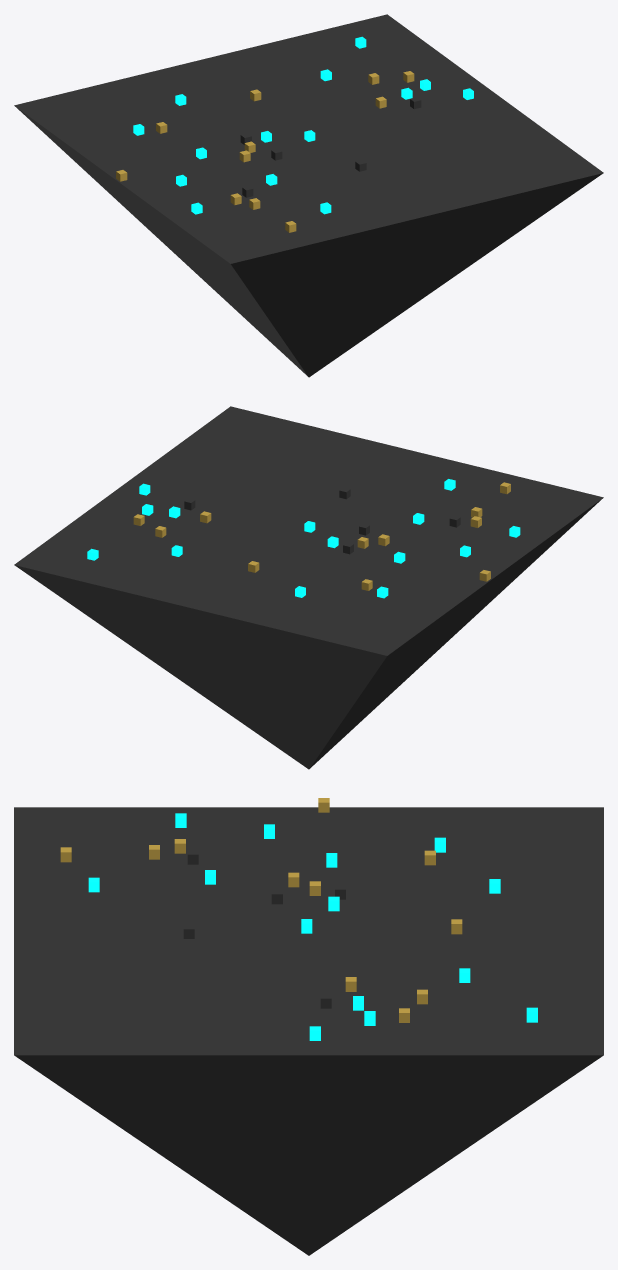
The model's file is Moving-Geometry-2.gltf.
3 renders of one model, top to bottom at view 1: azimuth 30°, elevation 25°; view 2: azimuth 150°, elevation 25°; view 3: azimuth 270°, elevation 25°, orthographic. The views are drawn at different scales.
Visible parts, largest first — view 1: Cube.033; view 2: Cube.033; view 3: Cube.033.
Part boxes in pixels (x1,y1,x2,y2): Cube.033: (14,14,603,377); Cube.033: (14,406,603,769); Cube.033: (14,807,603,1255).
Size of the model in its own units: 106 by 66.61 by 106.
